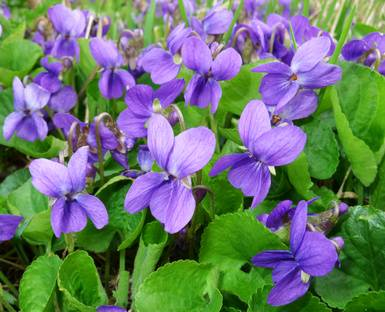violet: (134, 117, 215, 235), (29, 152, 125, 246), (268, 207, 338, 312), (230, 97, 303, 196), (257, 33, 340, 110), (177, 32, 232, 113), (117, 87, 188, 136), (84, 35, 135, 100), (11, 74, 53, 144)
